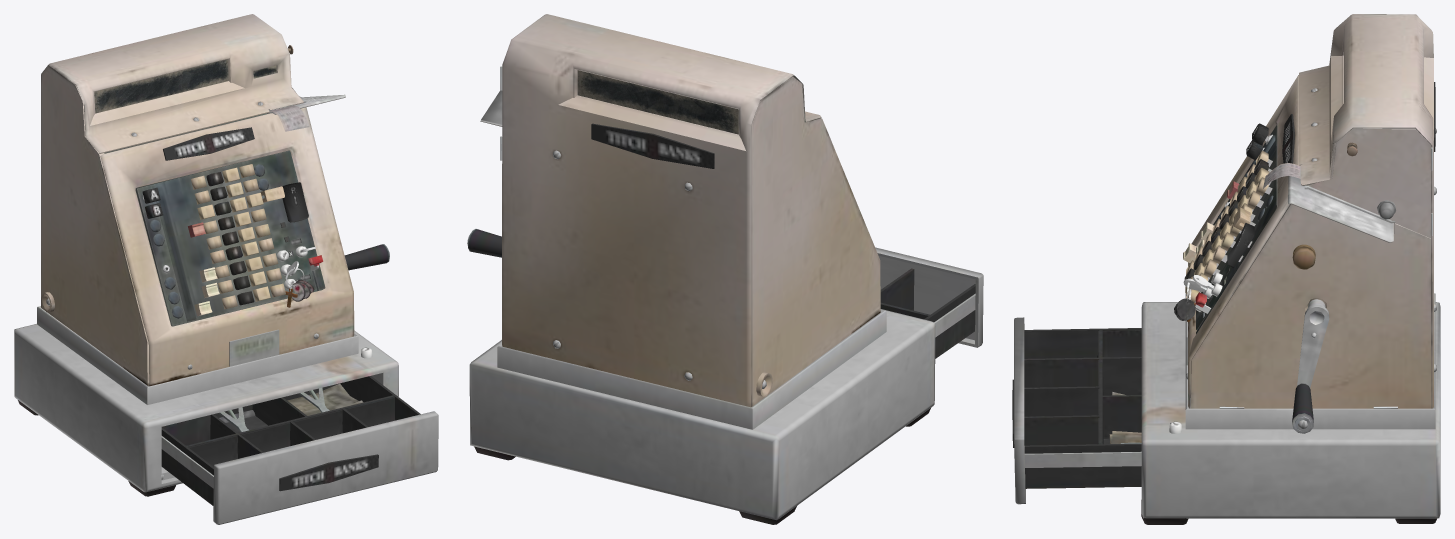
The model's file is CashRegister_01.glb.
3 renders of one model, left to right at view 1: azimuth 30°, elevation 25°; view 2: azimuth 150°, elevation 25°; view 3: azimuth 270°, elevation 25°, orthographic. The views are drawn at different scales.
Parts seen in each view (by area): view 1: CashRegister_01_body, CashRegister_011_drawer; view 2: CashRegister_01_body, CashRegister_011_drawer; view 3: CashRegister_01_body, CashRegister_011_drawer.
Part boxes in pixels (x1=…): CashRegister_01_body: x1=14, y1=14, x2=398, y2=496; CashRegister_011_drawer: x1=161, y1=376, x2=438, y2=524; CashRegister_01_body: x1=467, y1=14, x2=935, y2=524; CashRegister_011_drawer: x1=875, y1=247, x2=983, y2=358; CashRegister_01_body: x1=1141, y1=14, x2=1440, y2=524; CashRegister_011_drawer: x1=1012, y1=317, x2=1141, y2=504.
Size of the model in its own units: 0.6005 by 0.6211 by 0.6242.
2 materials, 2 textured.
